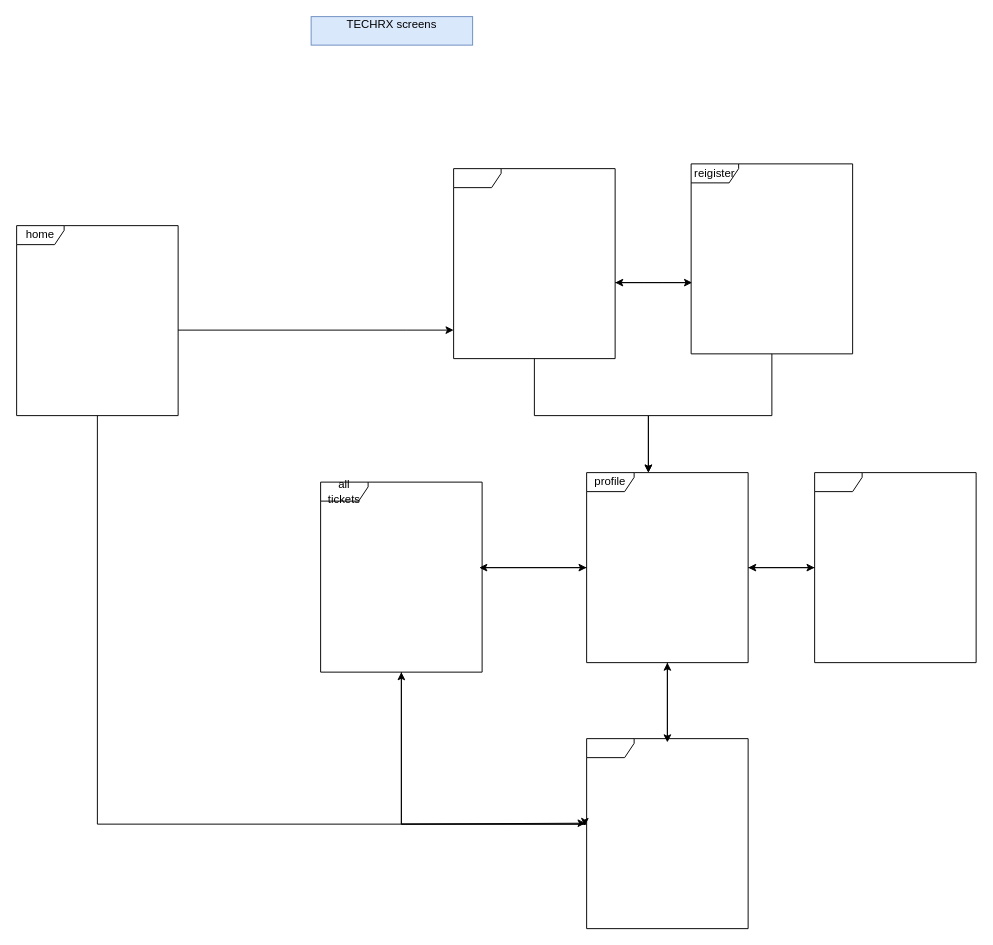
This 993x945 diagram has some shape labels left out. The centre of each missing label's shape, as x and y in pixels:
login: the point at 534,263
settings: the point at 895,567
ticket details: the point at 667,833
